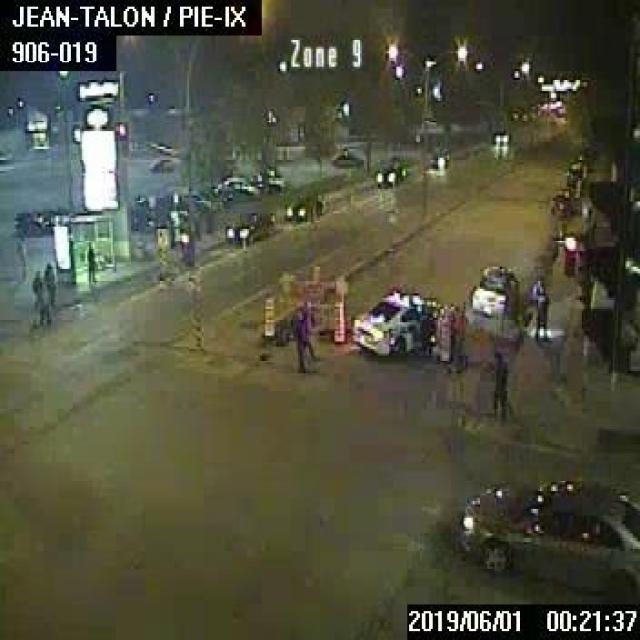construction: (274, 264, 340, 342), (259, 295, 274, 337), (330, 299, 344, 342)
pedestrian: (486, 347, 508, 418), (294, 302, 316, 372), (529, 271, 549, 340), (447, 304, 466, 366), (418, 306, 434, 355), (36, 270, 50, 322), (83, 238, 97, 282), (42, 262, 54, 306), (31, 269, 40, 306)
vehicle: (453, 476, 638, 598), (349, 282, 440, 358), (467, 262, 518, 318), (223, 210, 274, 245), (278, 189, 322, 222), (12, 207, 64, 234), (374, 158, 404, 186), (212, 175, 257, 193), (182, 191, 222, 210), (329, 150, 364, 166), (423, 147, 449, 166), (147, 156, 172, 171), (492, 127, 509, 142)
